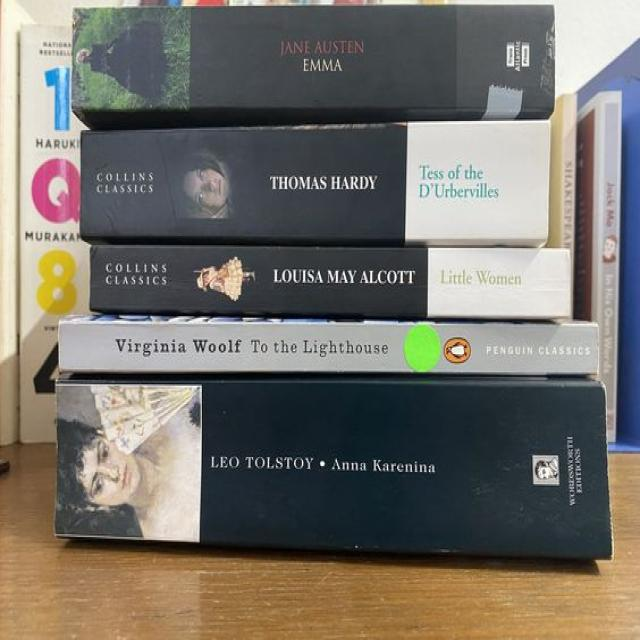book: (54, 375, 613, 558), (71, 5, 554, 129), (79, 120, 548, 245), (90, 245, 572, 318), (59, 316, 598, 375)
